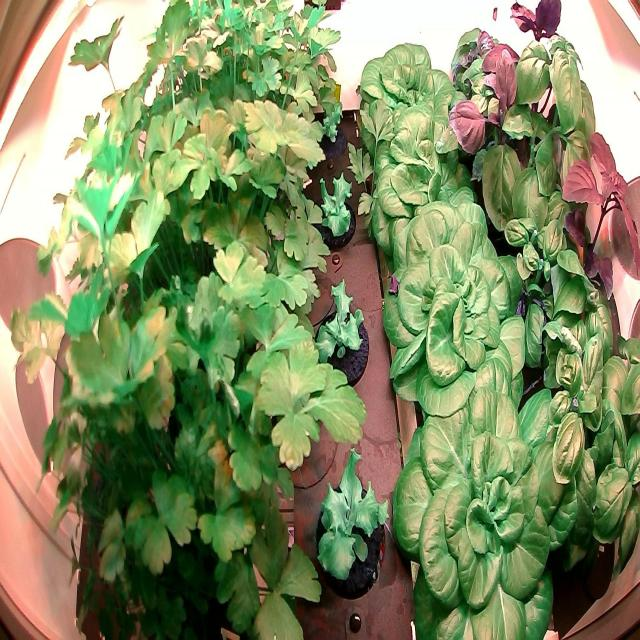Ready: (392, 364, 577, 638), (378, 204, 535, 421), (365, 113, 488, 256), (358, 34, 465, 184)
